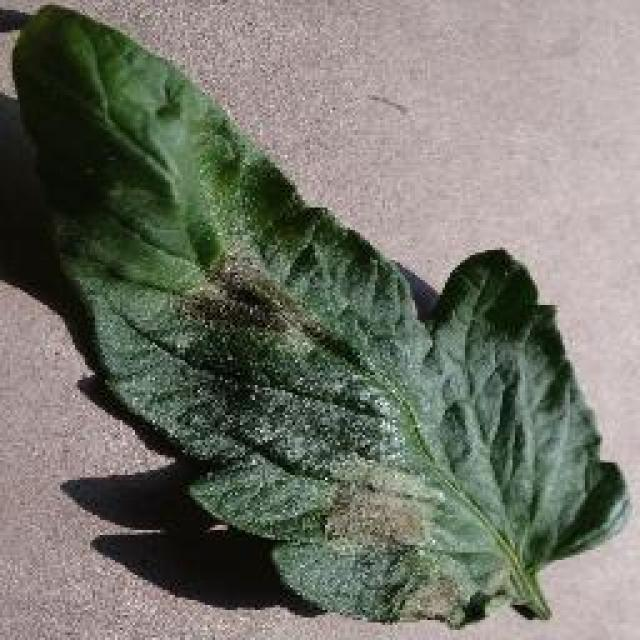Tomato late blight leaf: (18, 4, 628, 618)
